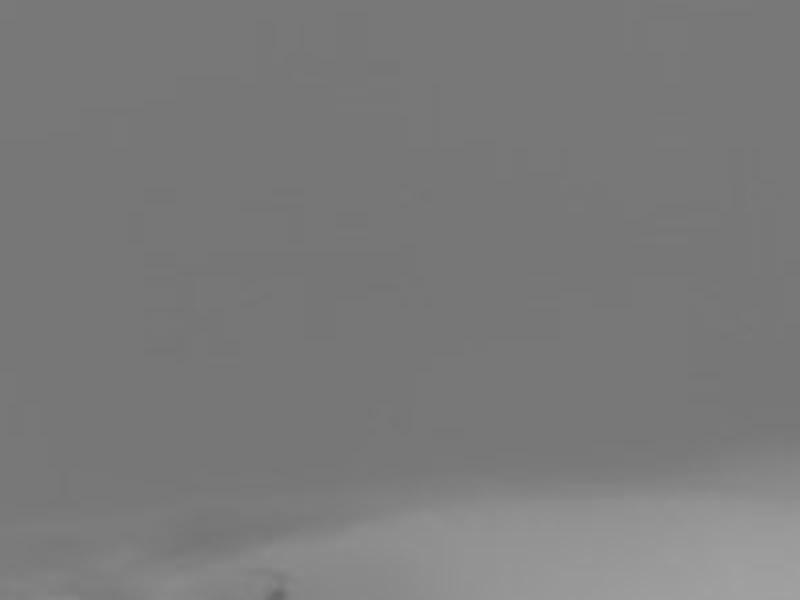defect: (264, 583, 284, 600)
